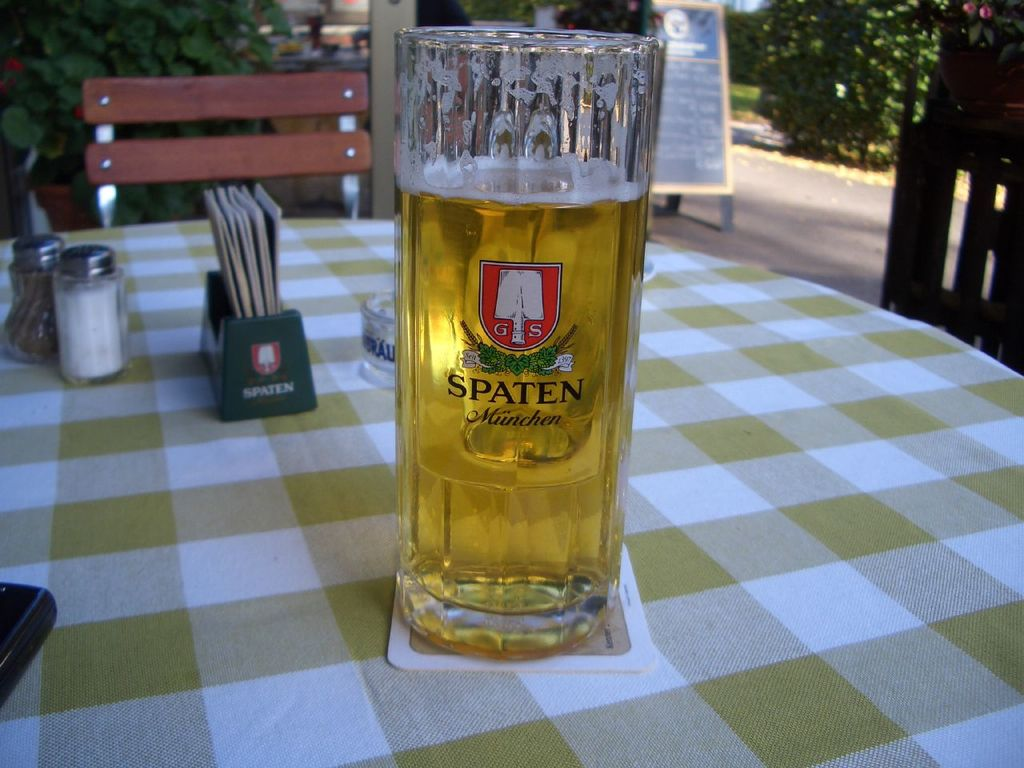Beer: (387, 42, 659, 656)
